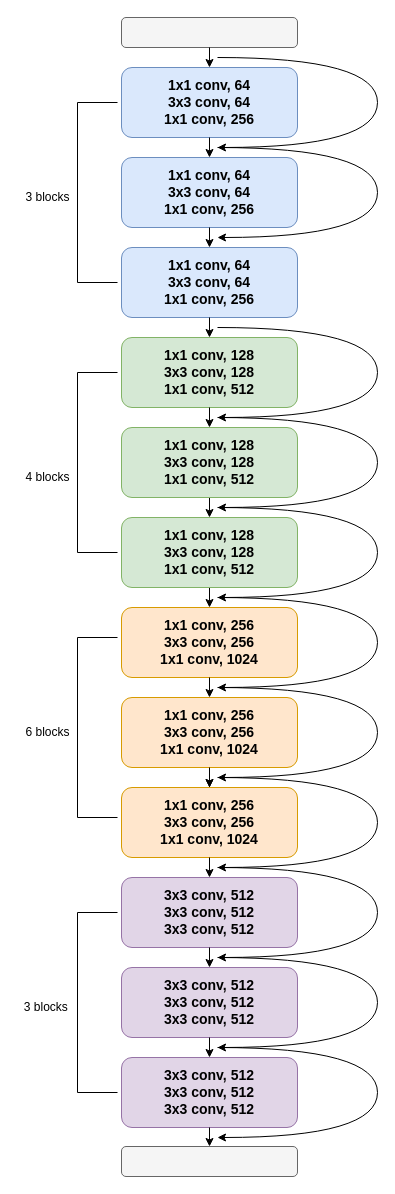
Some shapes in this 395 by 1194 pixel diagram are drawn without their labels. Here are the shapes that lost their labels. From the top down, the box of each, then its label:
(120, 16, 298, 48): 7x7 conv, 64
(120, 1146, 298, 1176): FC, 40
